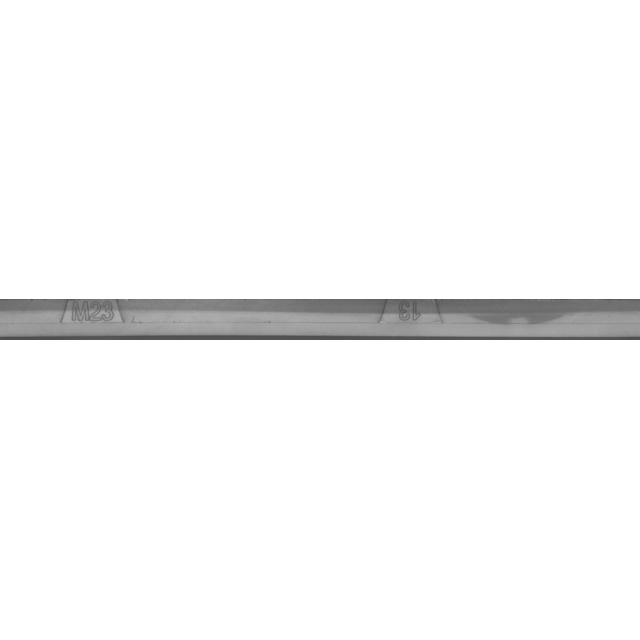mohao: (0, 270, 194, 370)
xuehao: (312, 270, 512, 370)
